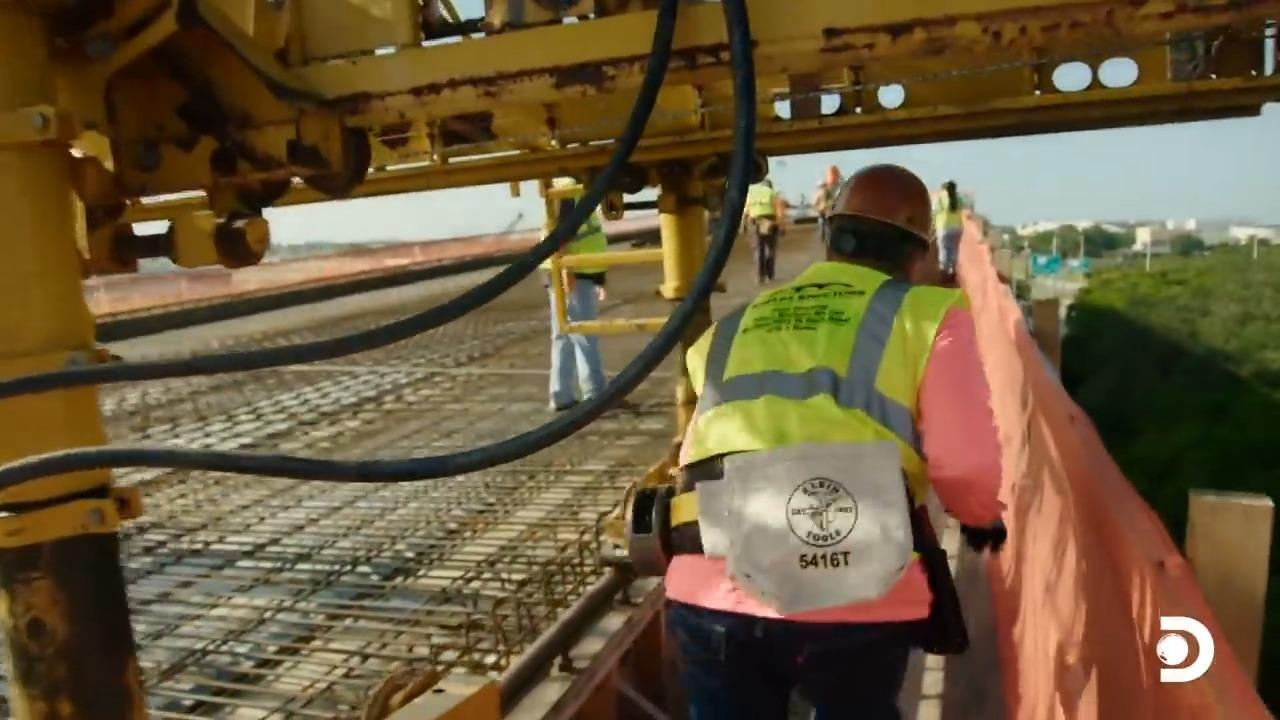Helmet: (826, 162, 934, 245)
Person: (658, 162, 1009, 719), (540, 185, 619, 416), (742, 177, 784, 285), (932, 180, 965, 277)
no-vest: (703, 287, 953, 464)
